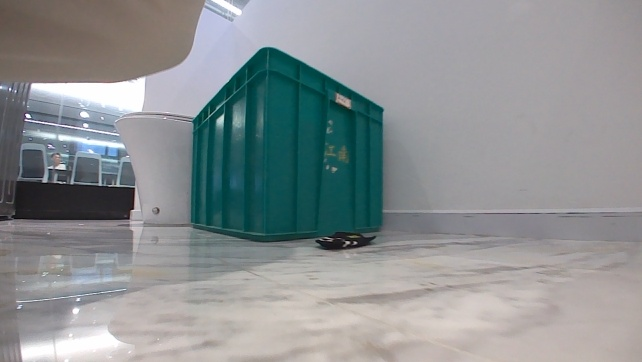socks: (312, 225, 379, 250)
toilet: (110, 104, 195, 228)
